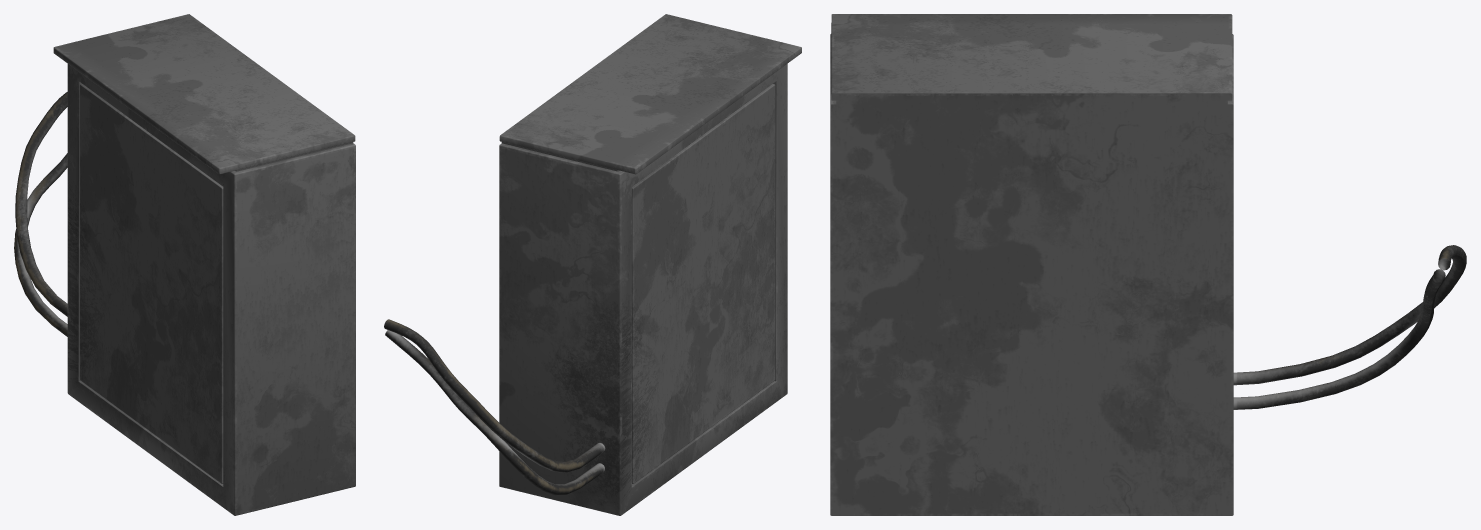
File: SM_ElectricalBox02.fbx
The picture shows the model from 3 angles, left to right: view 1: azimuth 30°, elevation 25°; view 2: azimuth 150°, elevation 25°; view 3: azimuth 270°, elevation 25°; orthographic projection. The views are drawn at different scales.
Parts seen in each view (by area): view 1: SM_ElectricalBox02_LOD0; view 2: SM_ElectricalBox02_LOD0; view 3: SM_ElectricalBox02_LOD0.
Boxes of the visible parts, box(x1,y1,x2,y2) form: SM_ElectricalBox02_LOD0: box(14, 14, 355, 515); SM_ElectricalBox02_LOD0: box(384, 14, 801, 515); SM_ElectricalBox02_LOD0: box(830, 14, 1466, 515).
Size of the model in its own units: 39.3 by 110 by 80.91.
Materials: 1 (1 with a texture image).
